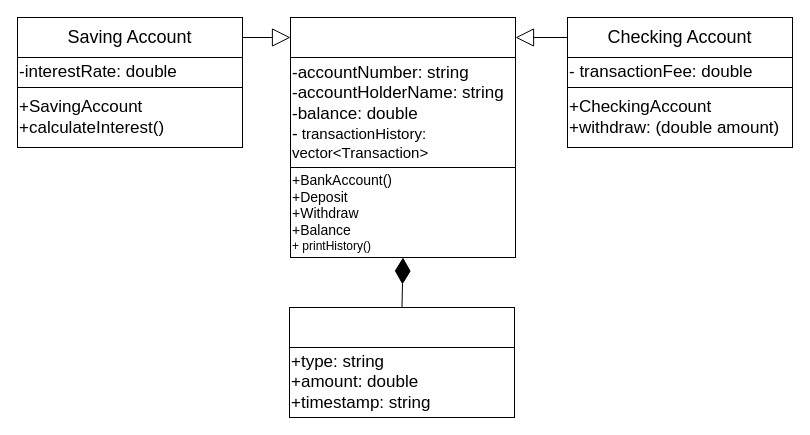
This 810x435 diagram has some shape labels left out. The shapes that lost their labels are listed below. From the top down, each one's centre as x and y in pixels, then its label:
At point 403,37: "Bank Account".
At point 401,327: "Transaction".
